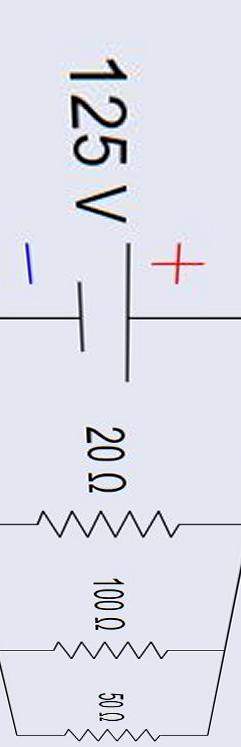resistor: (20, 483, 192, 568), (43, 626, 180, 675), (45, 715, 170, 742)
